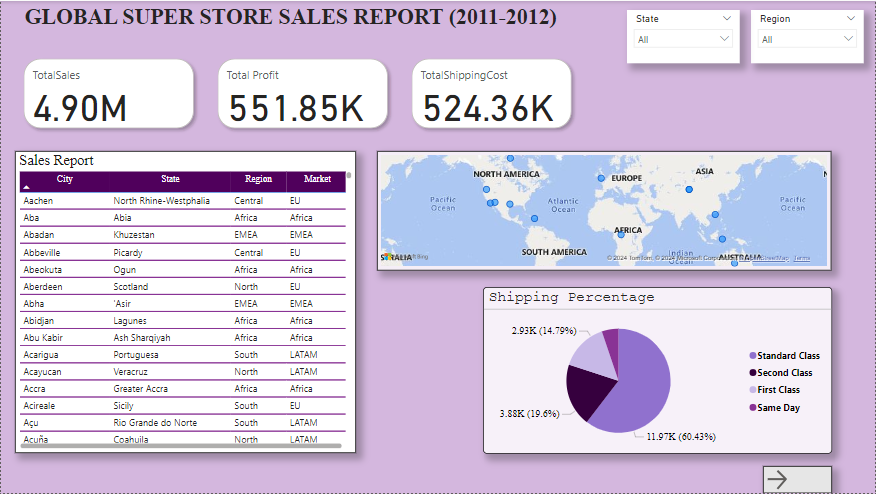

Layout of this report page (visuals, bound fields, positions):
{"tool":"powerbi","page":{"name":"Report (2011 - 2012)","canvas":[1280,720],"ordinal":0},"visuals":[{"type":"pieChart","title":"Shipping Percentage","fields":{"Category":["Orders.Ship Mode"],"Y":["CountNonNull(Orders.Ship Mode)"]},"box":[873.7,418.5,386.3,297.1],"z":0},{"type":"tableEx","title":"Sales Report","fields":{"Values":["Orders.City","Orders.State","Orders.Region","Orders.Market"]},"box":[16.1,175.6,488.8,540],"z":1000},{"type":"cardVisual","fields":{"Data":["Orders.TotalProfit"]},"box":[300,39.5,283.9,136.1],"z":2000},{"type":"cardVisual","fields":{"Data":["Orders.TotalShippingCost"]},"box":[583.9,39.5,269.3,136.1],"z":3000},{"type":"textbox","box":[29.3,0,648.3,45.4],"z":4000},{"type":"slicer","fields":{"Values":["Orders.State"]},"box":[916.1,13.2,165.4,64.4],"z":5000},{"type":"map","fields":{"Category":["Orders.Region"]},"box":[873.7,175.6,386.3,231.2],"z":6000},{"type":"cardVisual","fields":{"Data":["Orders.TotalSales"]},"box":[16.1,39.5,283.9,136.1],"z":7000},{"type":"donutChart","title":"Sales by Category","fields":{"Category":["Orders.Category"],"Y":["Sum(Orders.Sales)"]},"box":[516.6,175.6,342.4,171.2],"z":8000},{"type":"donutChart","title":"Profit by Category","fields":{"Category":["Orders.Category"],"Y":["Sum(Orders.Profit)"]},"box":[516.6,360,342.4,171.2],"z":9000},{"type":"donutChart","title":"Profit by Category","fields":{"Category":["Orders.Category"],"Y":["Sum(Orders.Profit)"]},"box":[516.6,540,342.4,175.6],"z":10000},{"type":"slicer","fields":{"Values":["Orders.Region"]},"box":[916.1,96.6,165.4,64.4],"z":11000},{"type":"slicer","fields":{"Values":["Orders.Order Date"]},"box":[1091.7,13.2,178.5,147.8],"z":12000}]}

Visuals, with their boxes in screenshot pixels (x1, y1, x2, y2), scaled from the page's 1280x720 canvas onto the 876x494 screenshot:
"Shipping Percentage" pieChart: select_region(598, 287, 862, 491)
"Sales Report" tableEx: select_region(11, 120, 346, 491)
cardVisual - Orders.TotalProfit: select_region(205, 27, 400, 120)
cardVisual - Orders.TotalShippingCost: select_region(400, 27, 584, 120)
textbox: select_region(20, 0, 464, 31)
slicer - Orders.State: select_region(627, 9, 740, 53)
map - Orders.Region: select_region(598, 120, 862, 279)
cardVisual - Orders.TotalSales: select_region(11, 27, 205, 120)
"Sales by Category" donutChart: select_region(354, 120, 588, 238)
"Profit by Category" donutChart: select_region(354, 247, 588, 364)
"Profit by Category" donutChart: select_region(354, 370, 588, 491)
slicer - Orders.Region: select_region(627, 66, 740, 110)
slicer - Orders.Order Date: select_region(747, 9, 869, 110)
